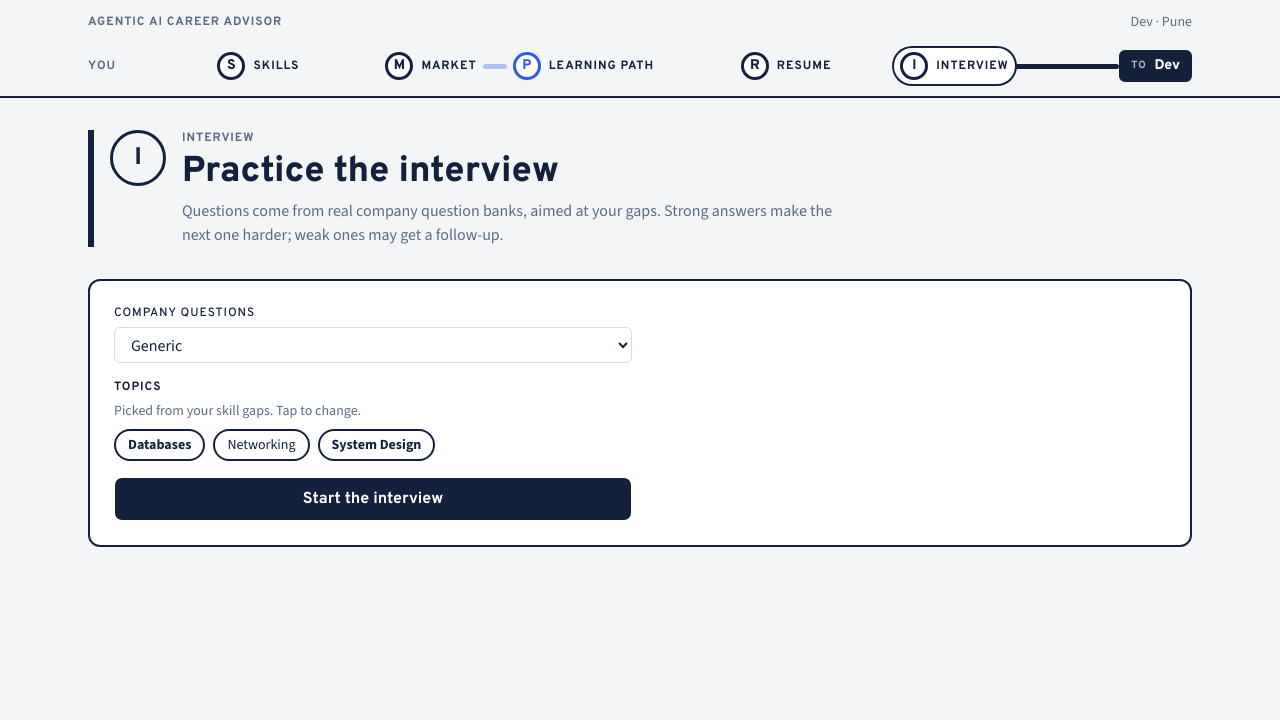
Test: Interview topics › starts the interview on the topics chosen
Later steps or results of the test are not shown.
Click the button "Networking" at (261, 445), box x1=213 y1=429 x2=310 y2=461
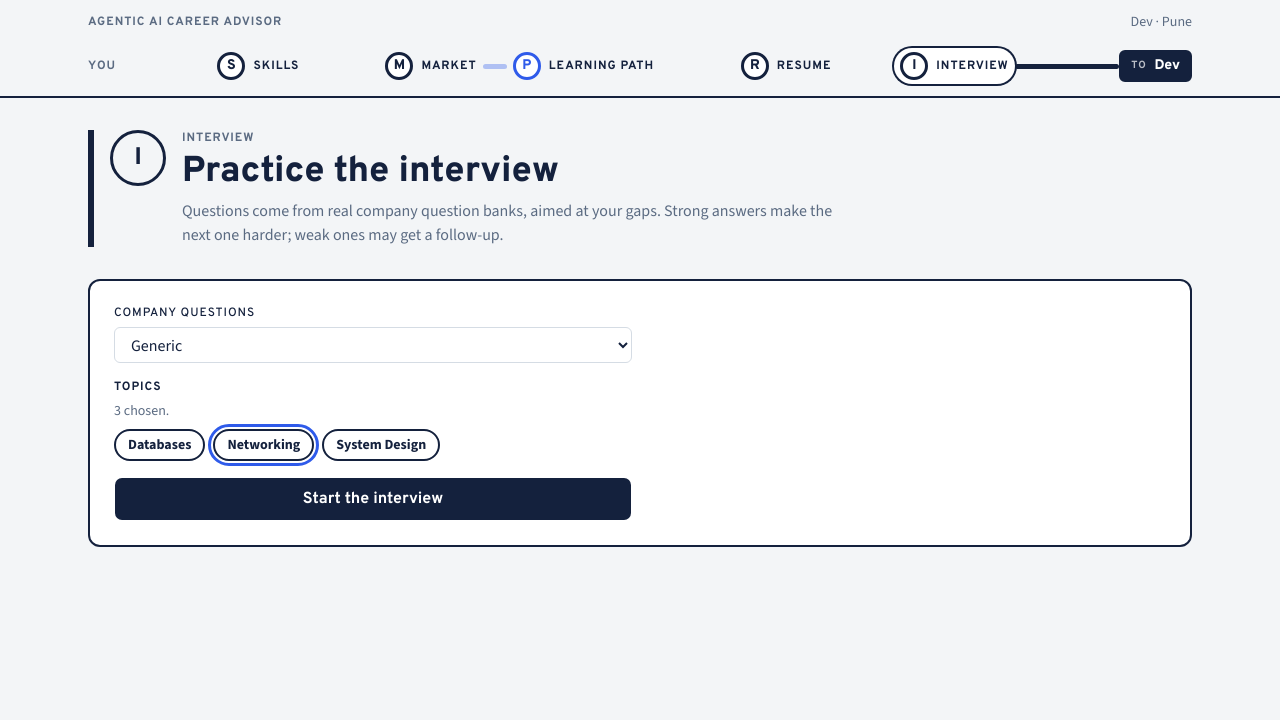
Click the button "Databases" at (160, 445), box x1=114 y1=429 x2=205 y2=461
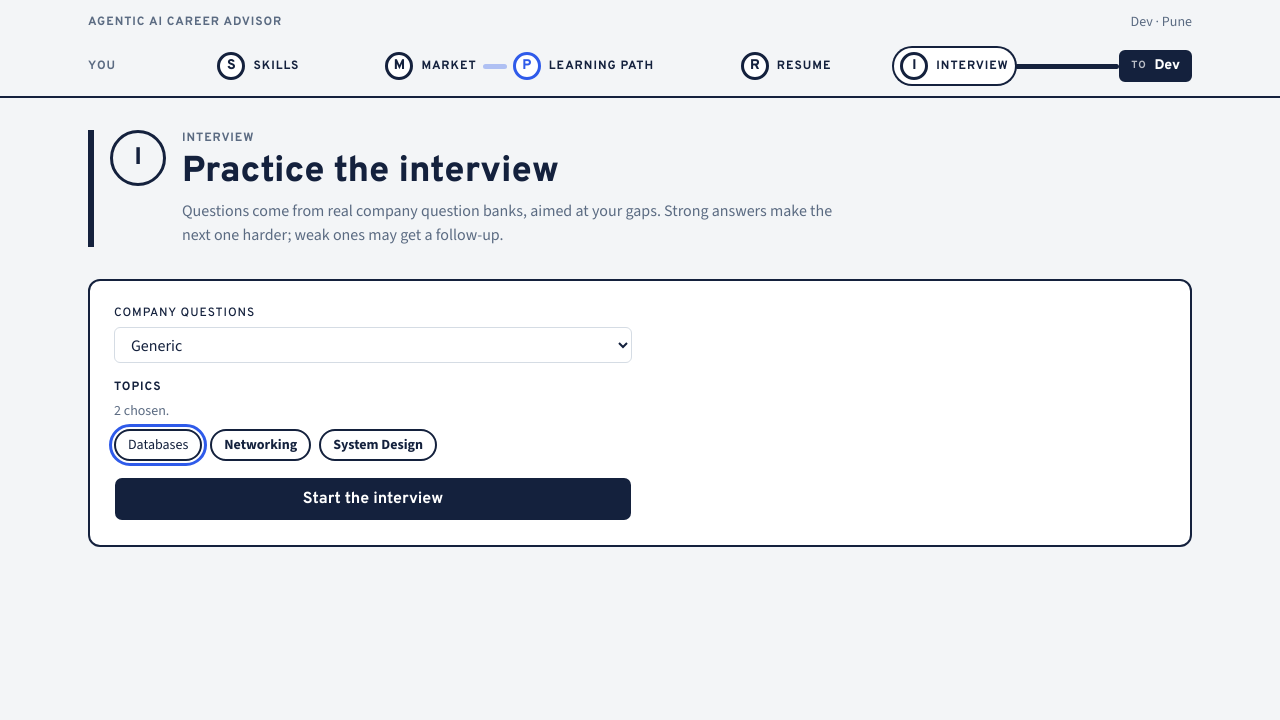
Check: the text "2 chosen." is shown, box x1=114 y1=401 x2=169 y2=420
